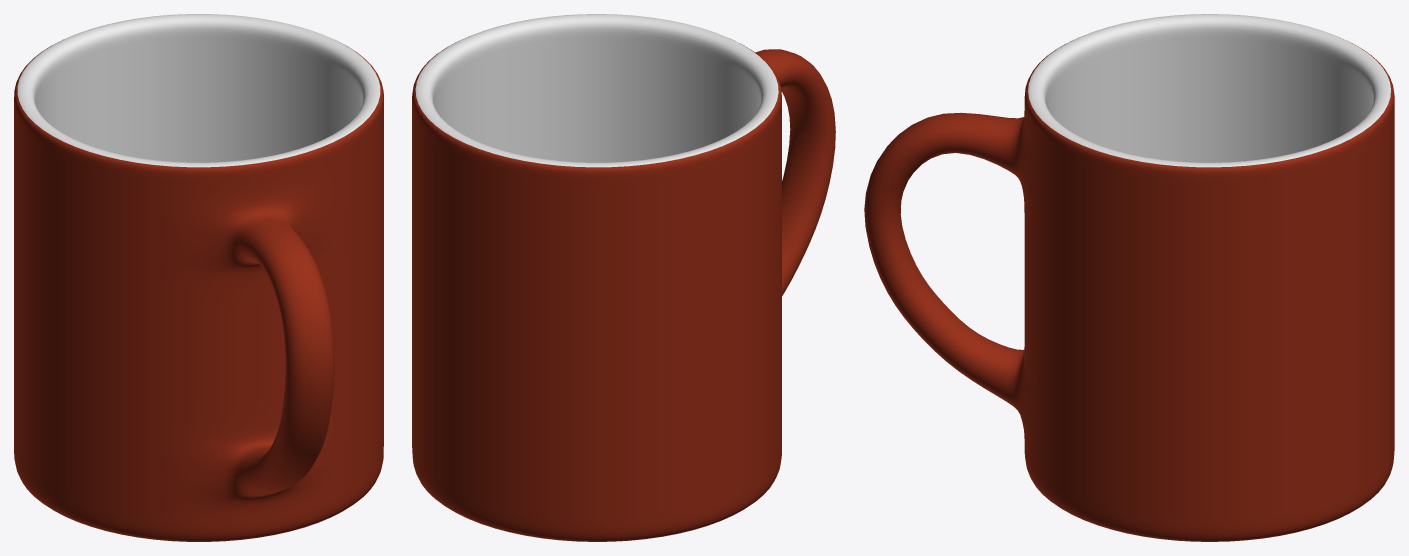
File: mug_red.glb
3 renders of one model, left to right at view 1: azimuth 30°, elevation 25°; view 2: azimuth 150°, elevation 25°; view 3: azimuth 270°, elevation 25°, orthographic.
Visible parts, largest first — view 1: Mesh.Mug_Red_0, Mesh.Mug_White Mug_0; view 2: Mesh.Mug_Red_0, Mesh.Mug_White Mug_0; view 3: Mesh.Mug_Red_0, Mesh.Mug_White Mug_0.
Boxes of the visible parts, <box> form: Mesh.Mug_Red_0: <box>14,41,383,541</box>; Mesh.Mug_White Mug_0: <box>17,14,380,167</box>; Mesh.Mug_Red_0: <box>412,38,835,541</box>; Mesh.Mug_White Mug_0: <box>415,14,778,167</box>; Mesh.Mug_Red_0: <box>864,37,1394,541</box>; Mesh.Mug_White Mug_0: <box>1028,14,1390,167</box>.
Size of the model in its own units: 195 by 220 by 279.
